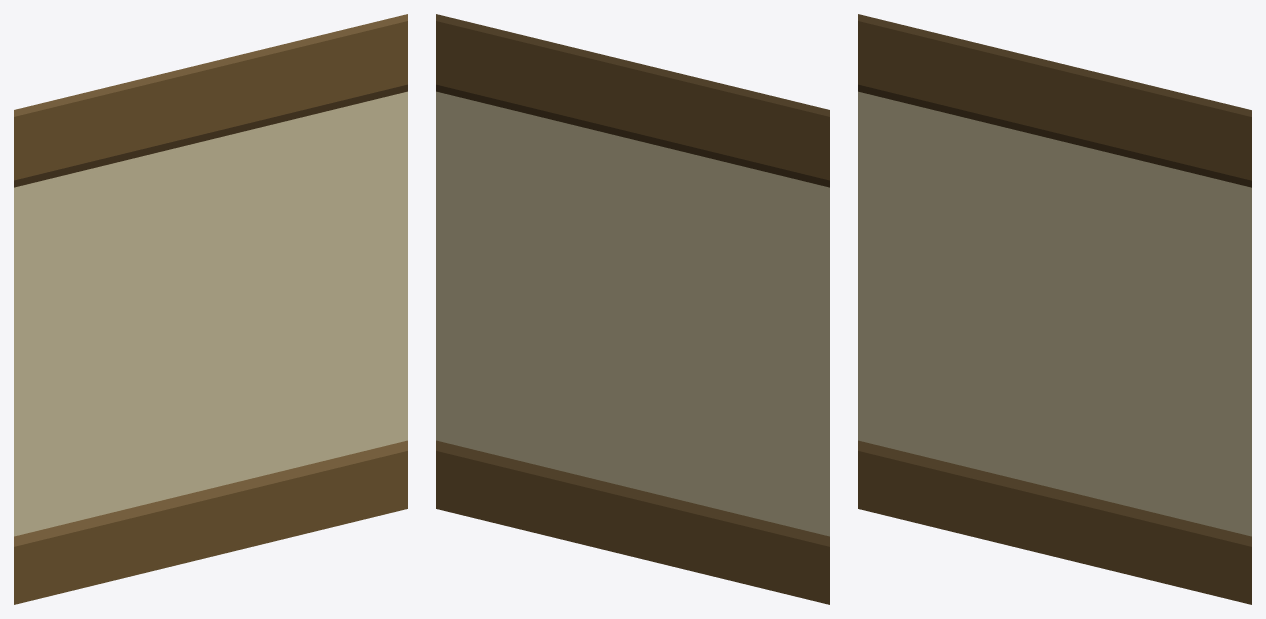
Rendered from Itr_Wall_Small_Base_Flat_01.FBX.
3 renders of one model, left to right at view 1: azimuth 30°, elevation 25°; view 2: azimuth 150°, elevation 25°; view 3: azimuth 330°, elevation 25°, orthographic.
Visible parts, largest first — view 1: Itr_Wall_Base_Flat_01; view 2: Itr_Wall_Base_Flat_01; view 3: Itr_Wall_Base_Flat_01.
Part boxes in pixels (x1,y1,x2,y2): Itr_Wall_Base_Flat_01: [14, 14, 407, 604]; Itr_Wall_Base_Flat_01: [436, 14, 829, 604]; Itr_Wall_Base_Flat_01: [858, 14, 1251, 604].
Size of the model in its own units: 35.57 by 42.73 by 1.91e-05.
